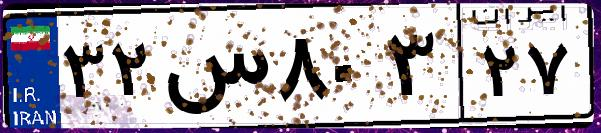0: (330, 28, 385, 110)
2: (475, 38, 525, 113), (110, 28, 158, 98)
3: (385, 28, 445, 110), (57, 26, 110, 100)
7: (525, 38, 570, 115)
8: (270, 28, 330, 110)
س: (158, 20, 270, 120)
